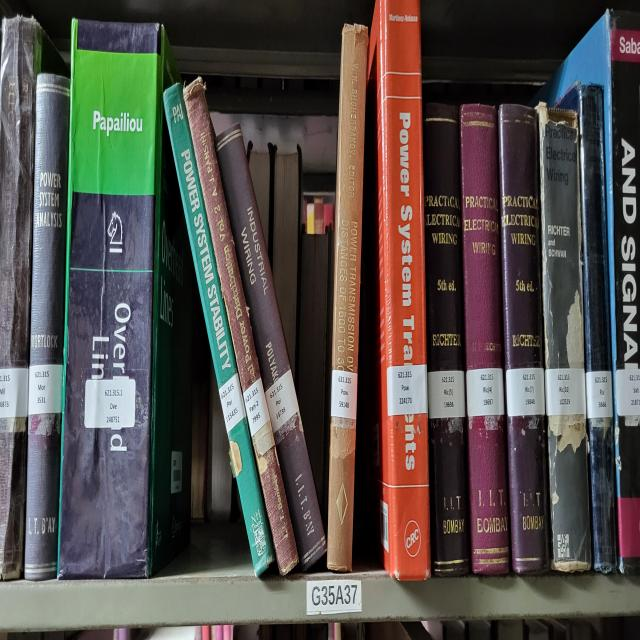Book: (58, 19, 192, 579), (182, 78, 298, 574), (539, 11, 640, 574), (164, 84, 274, 576), (216, 127, 326, 568), (369, 0, 431, 579), (558, 84, 618, 574), (538, 103, 591, 571), (499, 106, 550, 574), (460, 106, 510, 574), (25, 73, 70, 579), (328, 24, 369, 571), (424, 106, 464, 371)
Label: (84, 376, 135, 430), (386, 363, 428, 417), (265, 371, 299, 433), (545, 368, 586, 417), (506, 368, 545, 417), (466, 368, 504, 417), (428, 371, 465, 419), (29, 365, 62, 417), (219, 373, 246, 433), (244, 379, 270, 436), (331, 371, 358, 419), (585, 371, 612, 419)
